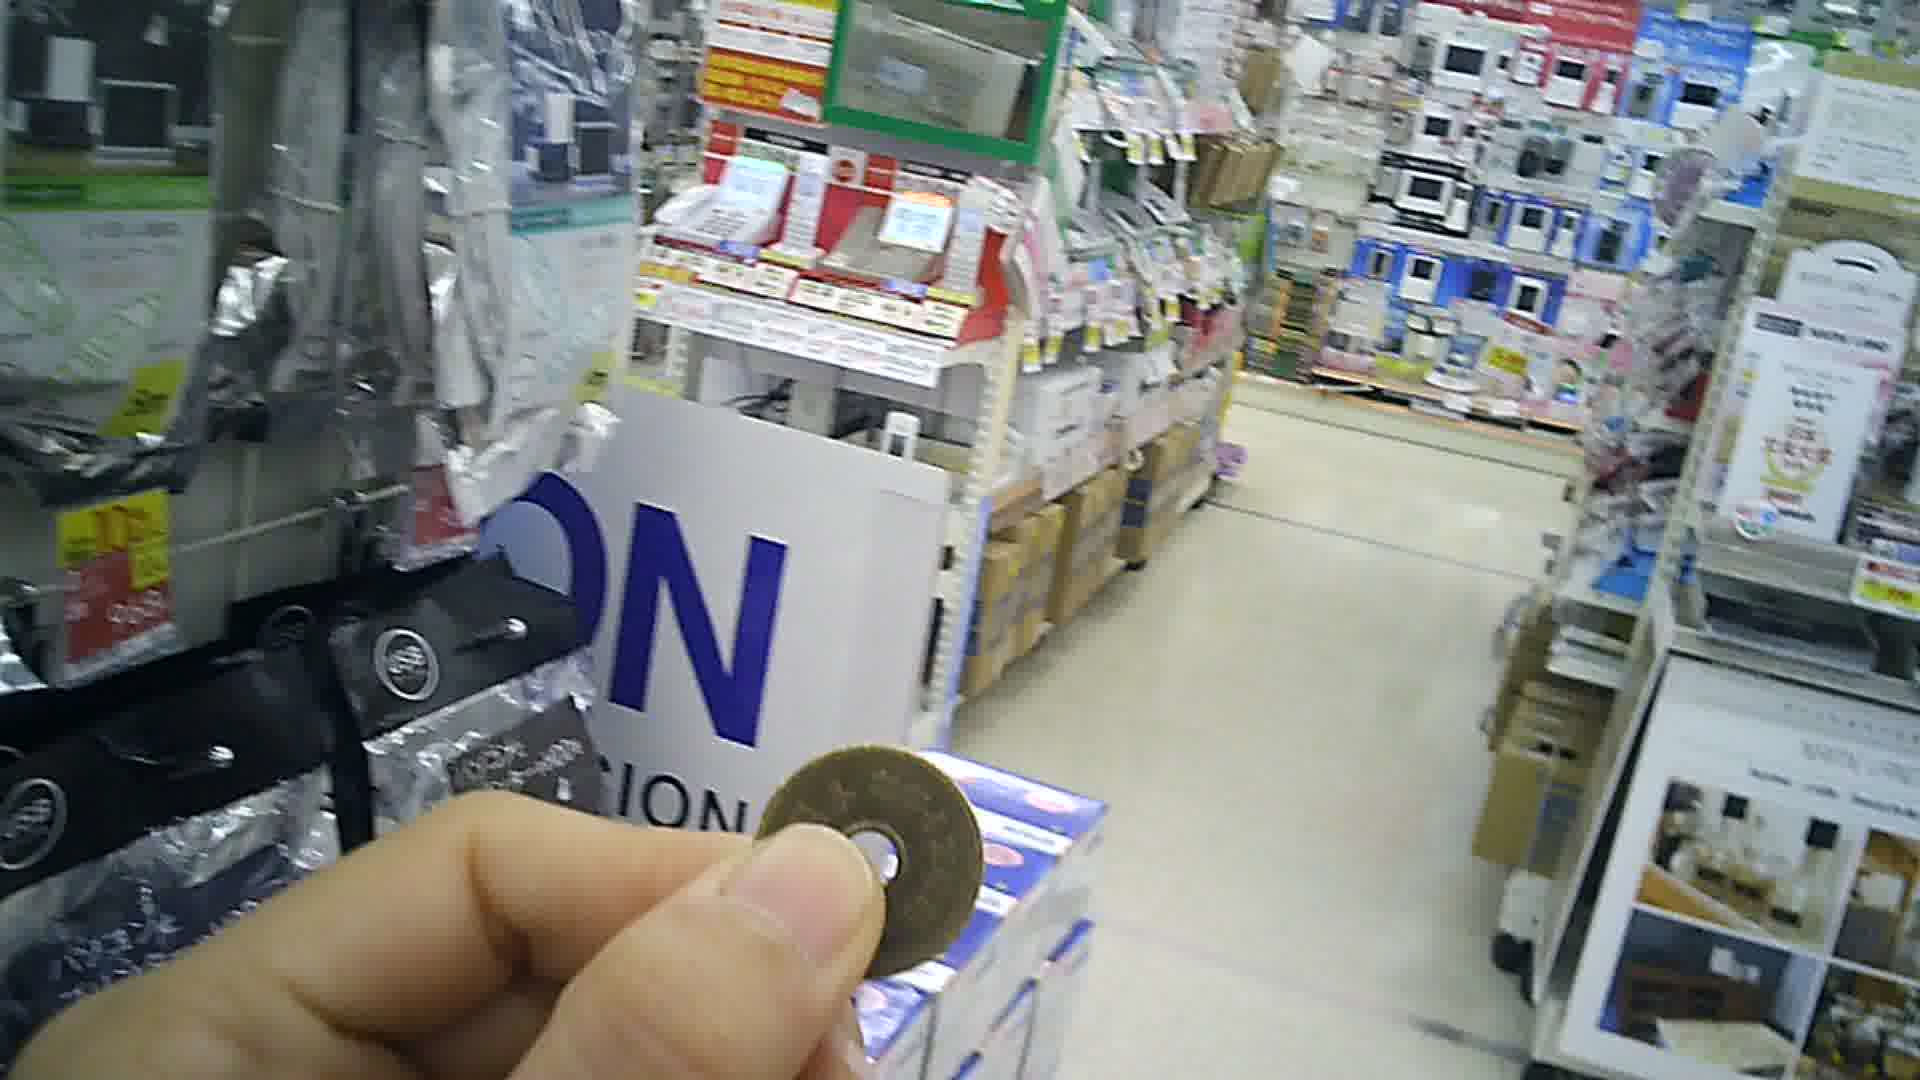5 Yen: (750, 733, 982, 988)
